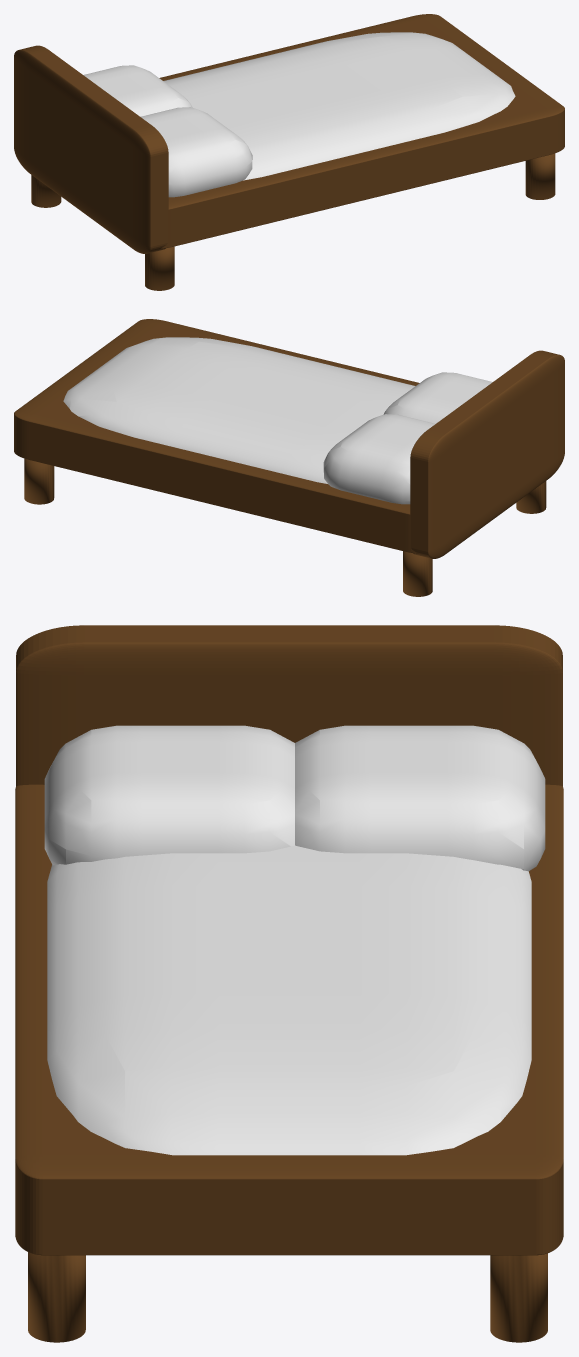
The model's file is bed.fbx.
3 views of the same model, one above another, from view 1: azimuth 30°, elevation 25°; view 2: azimuth 150°, elevation 25°; view 3: azimuth 270°, elevation 25° (orthographic). The views are drawn at different scales.
Parts seen in each view (by area): view 1: Cube.001, Mball.001, Mball.002, Mball.003; view 2: Cube.001, Mball.001, Mball.003, Mball.002; view 3: Cube.001, Mball.001, Mball.003, Mball.002.
Part boxes in pixels (x1,y1,x2,y2): Cube.001: (14, 14, 564, 290); Mball.001: (163, 32, 515, 180); Mball.002: (140, 107, 252, 197); Mball.003: (83, 65, 192, 116); Cube.001: (14, 319, 564, 596); Mball.001: (63, 337, 415, 483); Mball.003: (323, 414, 435, 504); Mball.002: (383, 372, 492, 423); Cube.001: (15, 625, 563, 1342); Mball.001: (47, 845, 531, 1155); Mball.003: (295, 725, 545, 871); Mball.002: (44, 725, 294, 865).
Size of the model in its own units: 1095 by 389 by 615.
